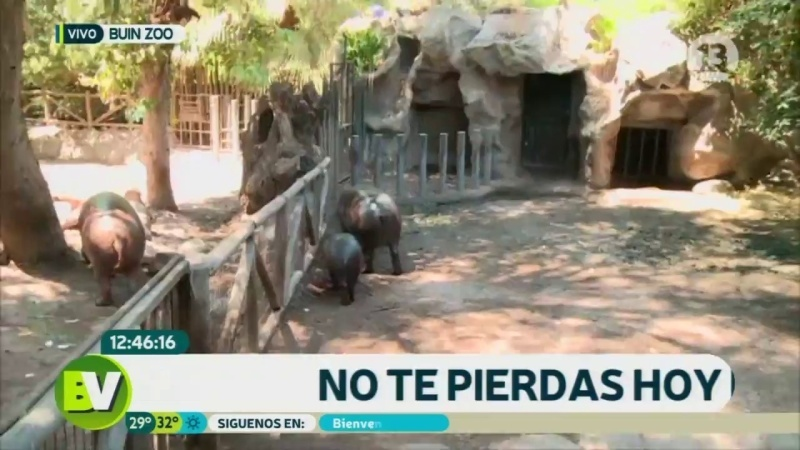hipopotamo: (62, 183, 160, 321), (333, 180, 416, 283), (310, 231, 372, 315)
